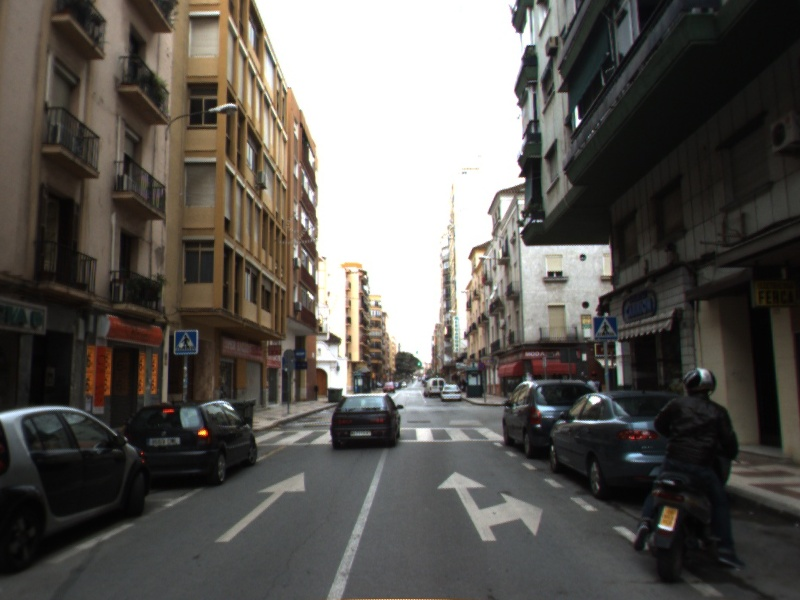STRAIGHT: (212, 470, 307, 544)
STRAIGHT_RIGHT: (435, 470, 544, 543)
